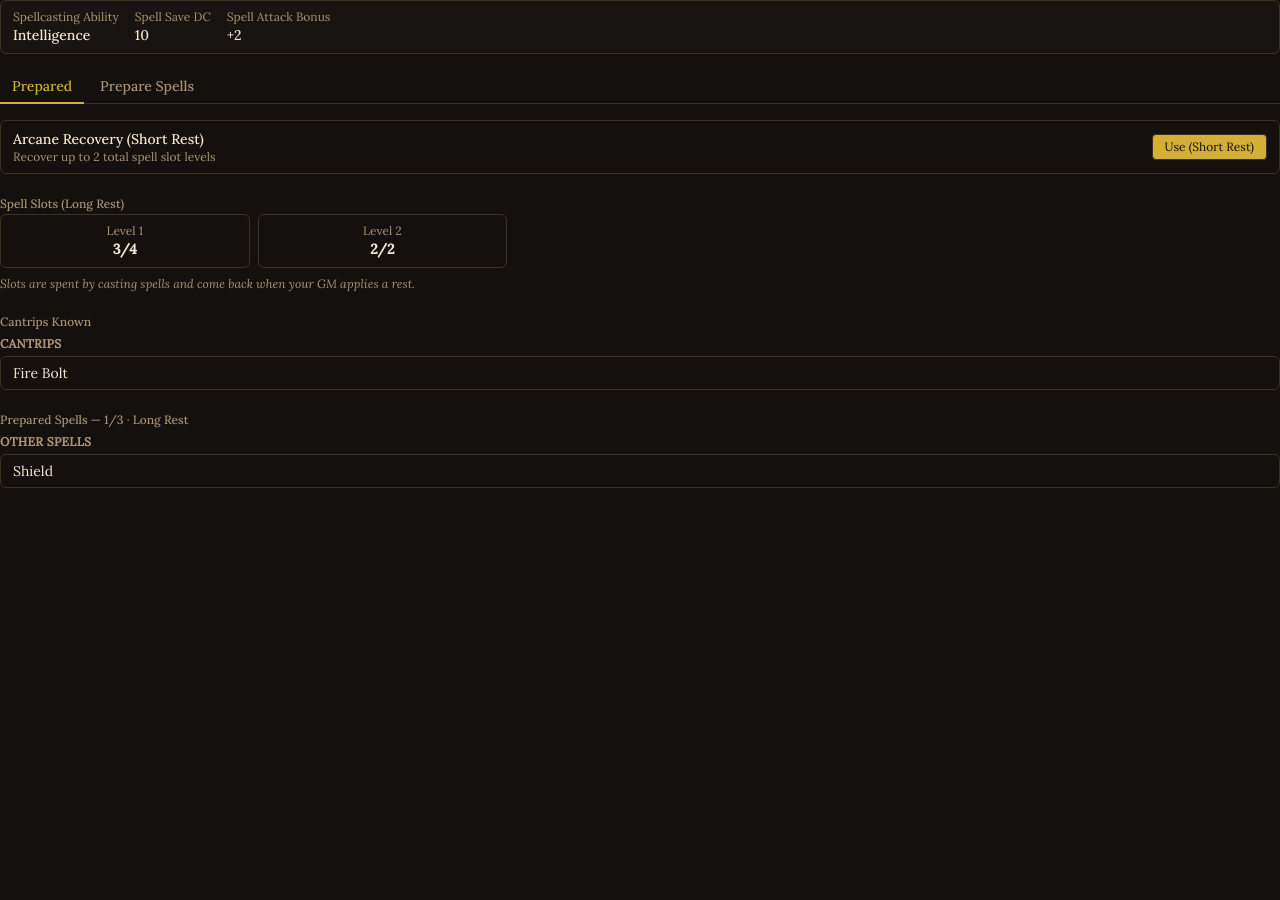
Test: WizardSheet Arcane Recovery button › clicking "Use (Short Rest)" opens a confirm dialog instead of recovering immediately
Click the button "Use (Short Rest)". click: (1209, 147)
box: [1152, 134, 1267, 160]
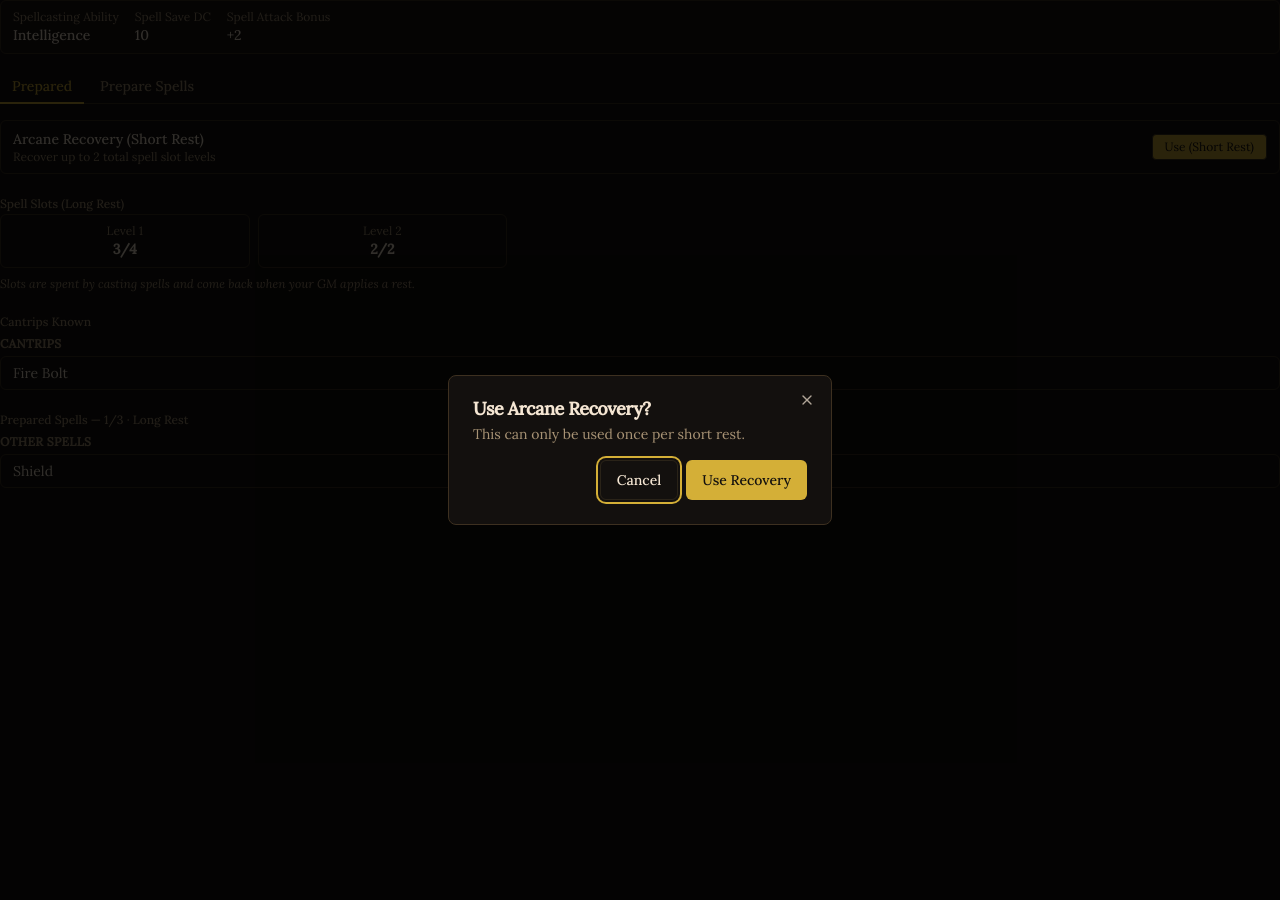
Result: the text "This can only be used once per short rest." is shown at [473, 425, 745, 443]
Result: the button with test id "arcane-recovery-confirm-button" is shown at [686, 460, 807, 500]
